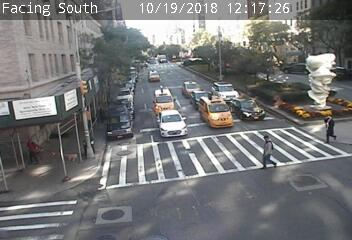carw: (199, 95, 234, 129), (159, 109, 189, 137), (229, 99, 267, 120), (155, 85, 176, 114), (212, 83, 239, 100), (148, 67, 162, 83)
